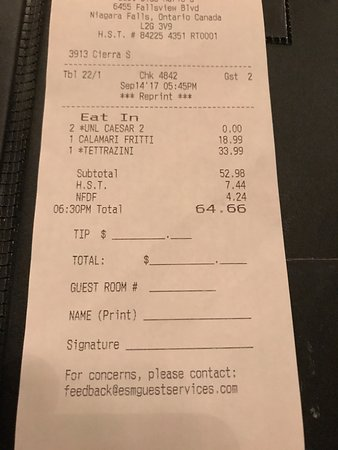Additional details: (42, 218, 273, 416)
Purchase summary: (54, 43, 259, 218)
Receipt: (12, 1, 282, 445)
Shop details: (65, 1, 249, 43)
